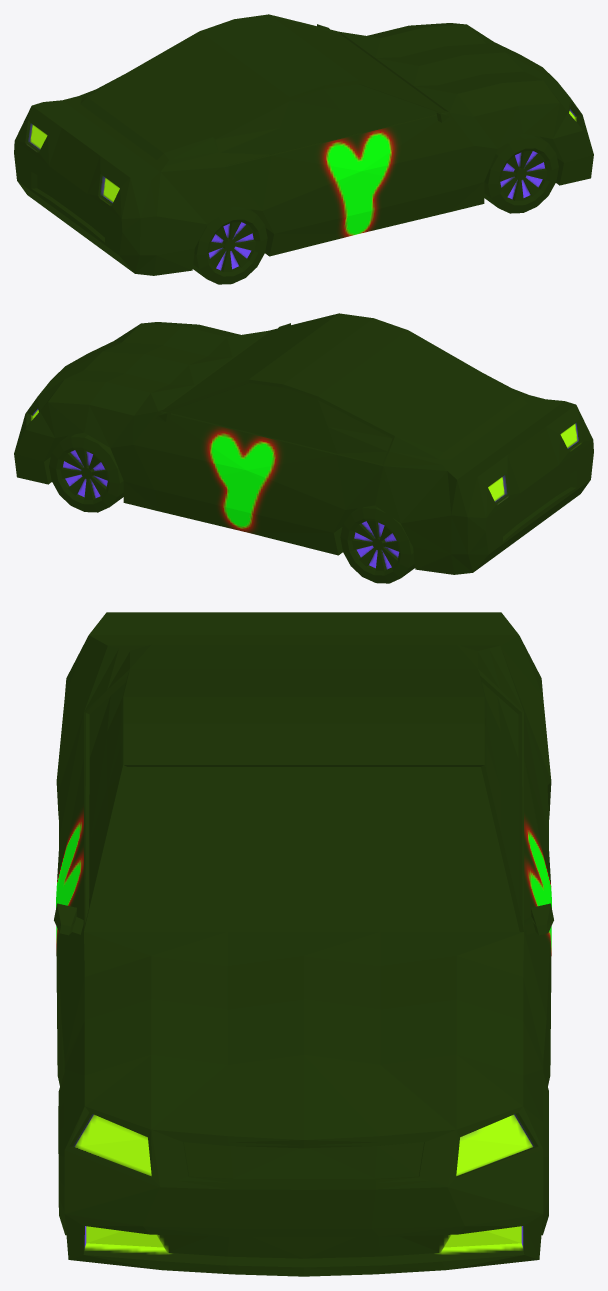
Rendered from car.glb.
3 views of the same model, one above another, from view 1: azimuth 30°, elevation 25°; view 2: azimuth 150°, elevation 25°; view 3: azimuth 270°, elevation 25° (orthographic). The views are drawn at different scales.
Parts seen in each view (by area): view 1: CarBody, WheelRF, WheelRB; view 2: CarBody, WheelLF, WheelLB; view 3: CarBody, WheelRF, WheelLF.
Boxes of the visible parts, x1,y1,x2,y2 form: CarBody: [14, 14, 593, 275]; WheelRF: [484, 133, 558, 213]; WheelRB: [192, 206, 267, 284]; CarBody: [14, 313, 593, 574]; WheelLF: [49, 432, 123, 512]; WheelLB: [340, 505, 415, 583]; CarBody: [54, 612, 553, 1276]; WheelRF: [58, 1073, 66, 1235]; WheelLF: [541, 1073, 548, 1235].
Size of the model in its own units: 2.82 by 0.906 by 1.27.
Materials: 1 (1 with a texture image).
